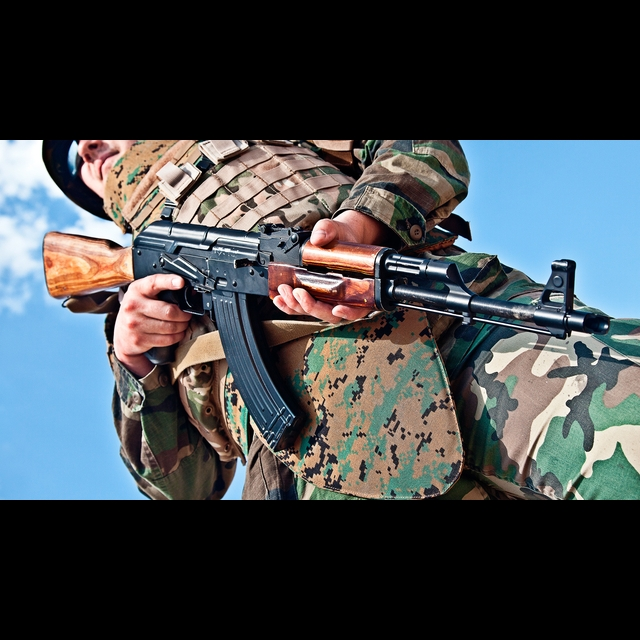AK47: (126, 198, 621, 456)
